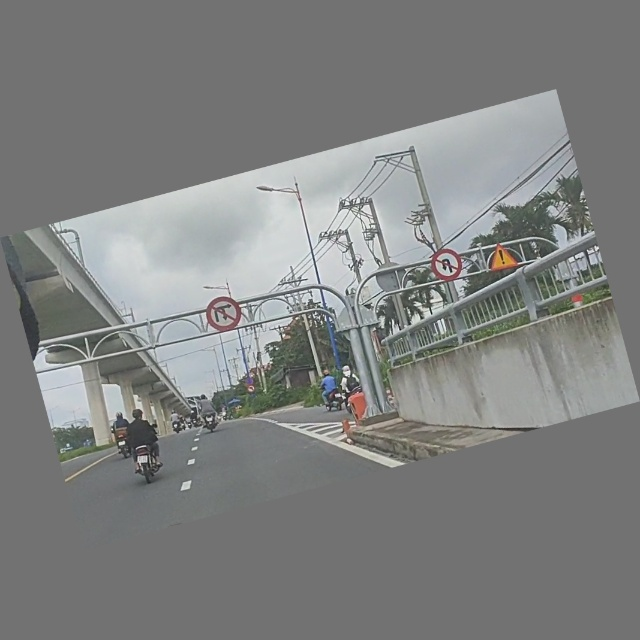P.123a: (245, 385, 257, 395)
P.124a*: (429, 246, 466, 285)
P.124d: (203, 293, 245, 336)
P.130: (244, 376, 256, 387)
W.233: (485, 239, 521, 274)
